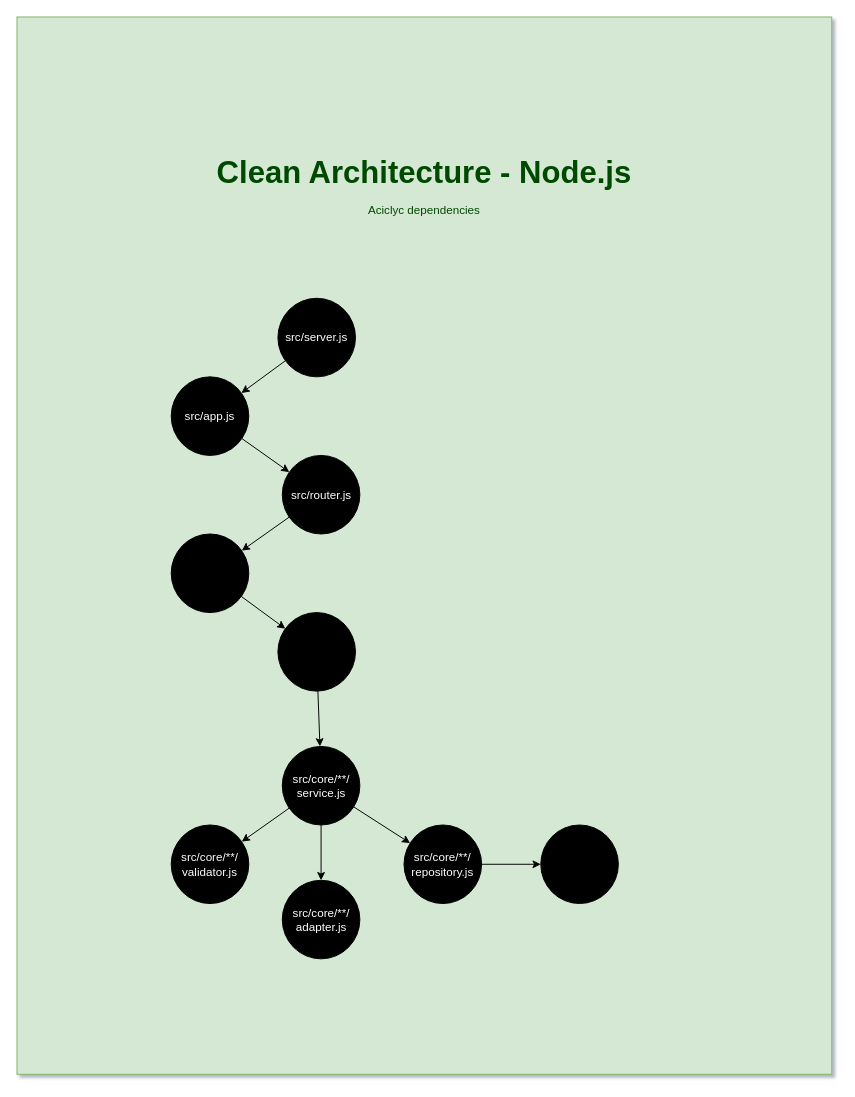
Some shapes in this 855 by 1097 pixel diagram are drawn without their labels. The centre of each missing label's shape, as x and y in pixels:
"src/core/**/ controller.js" goes at pixel 316 651.
"src/core/**/ index.js" goes at pixel 209 573.
"src/providers" goes at pixel 579 864.
